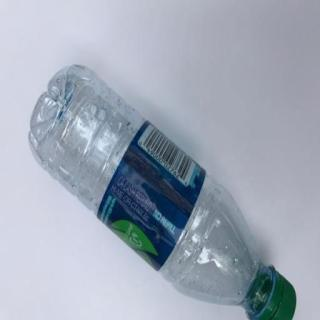Plastic-bottle: (27, 62, 300, 320)
